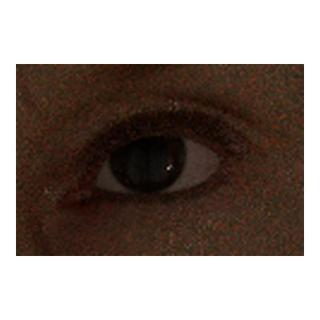pupil: (130, 138, 162, 170)
